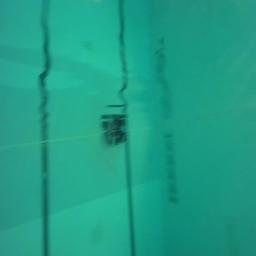Full: (102, 128, 129, 145), (102, 130, 127, 147)
